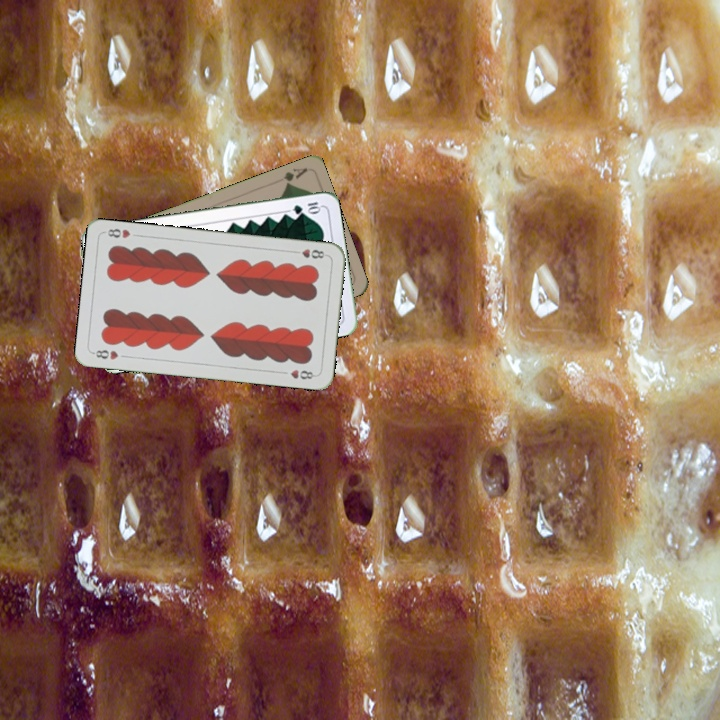G10: (289, 198, 323, 216)
GA: (279, 164, 309, 189)
H8: (289, 245, 330, 261), (89, 346, 121, 362)
